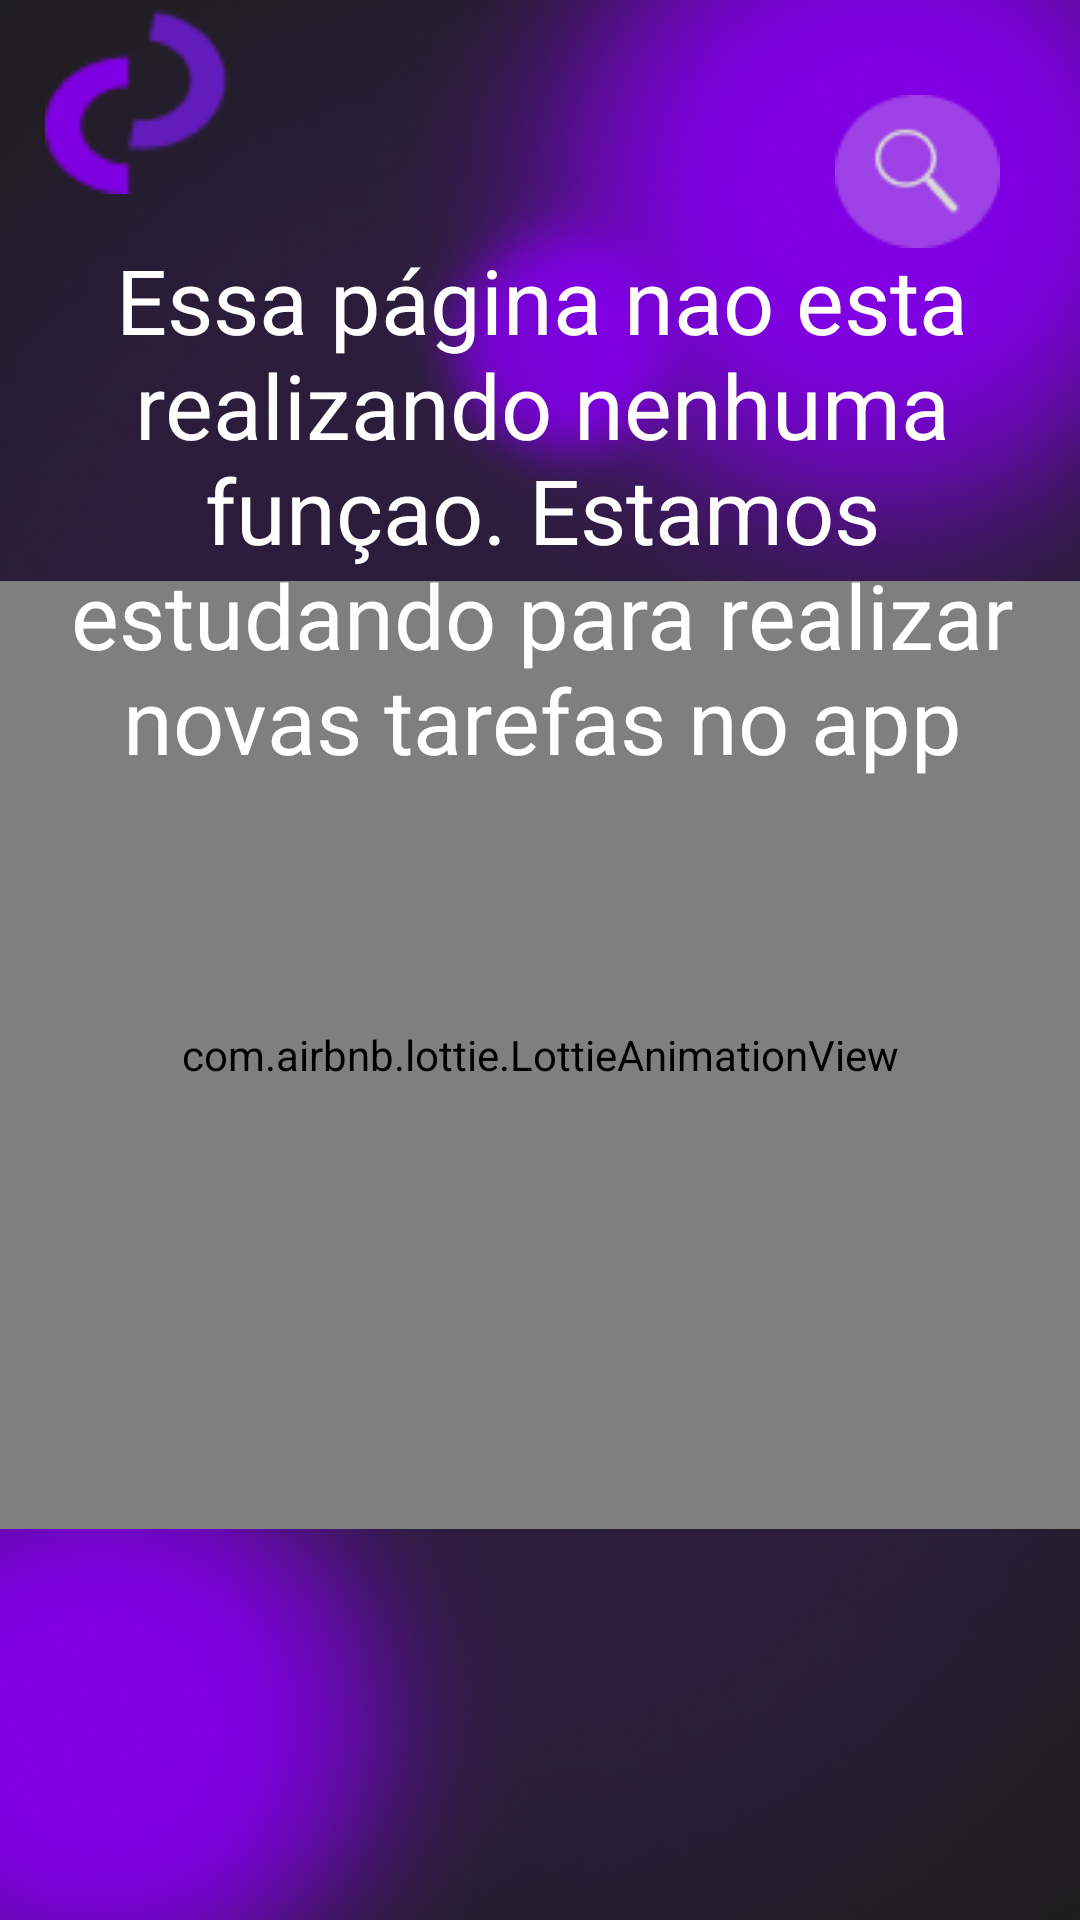

Named icons in this screenshot (1080x1920) and their centers, (x,y):
searchicon: (917,171)
